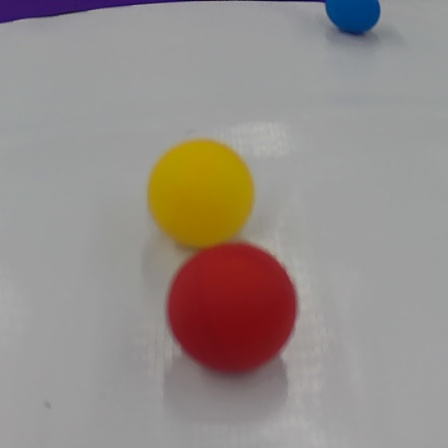blue: (317, 2, 388, 41)
red: (161, 241, 298, 377)
yellow: (151, 141, 264, 252)
